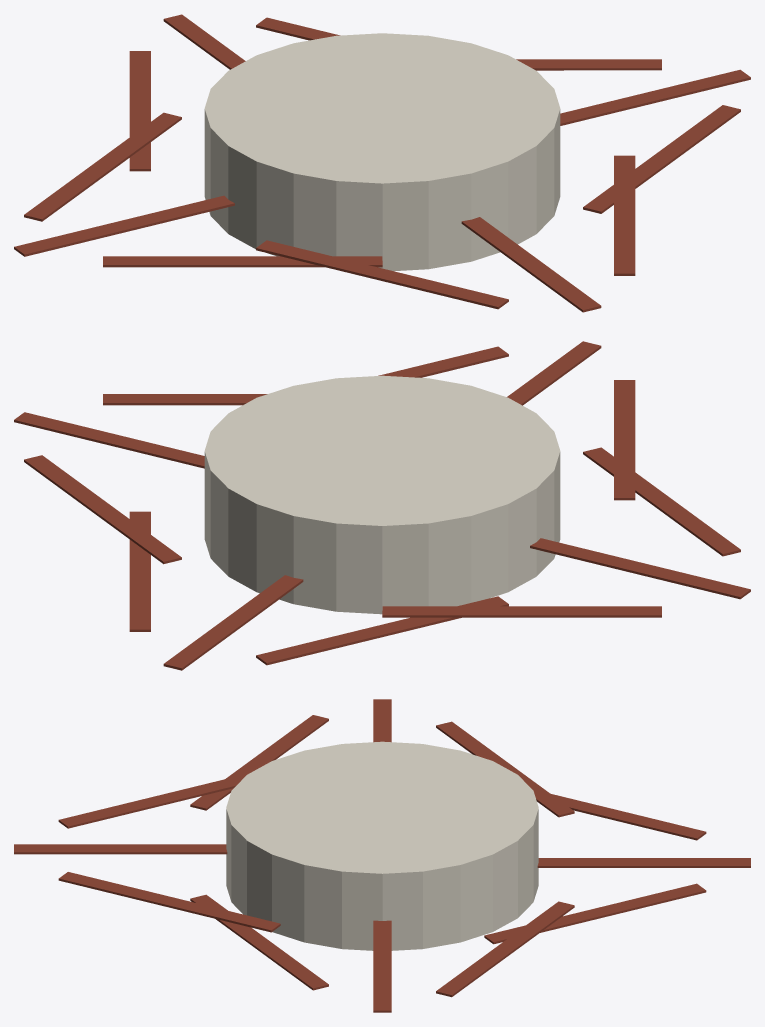
Rendered from rb_cactus.glb.
3 renders of one model, top to bottom at view 1: azimuth 30°, elevation 25°; view 2: azimuth 150°, elevation 25°; view 3: azimuth 270°, elevation 25°, orthographic. The views are drawn at different scales.
Parts seen in each view (by area): view 1: rb_cactus_lod0; view 2: rb_cactus_lod0; view 3: rb_cactus_lod0.
Part boxes in pixels (<box>): rb_cactus_lod0: <box>14,14,750,312</box>; rb_cactus_lod0: <box>14,341,750,670</box>; rb_cactus_lod0: <box>14,699,750,1012</box>.
Size of what is drawn, in the model's own units: 9.9 by 1.15 by 9.9.
